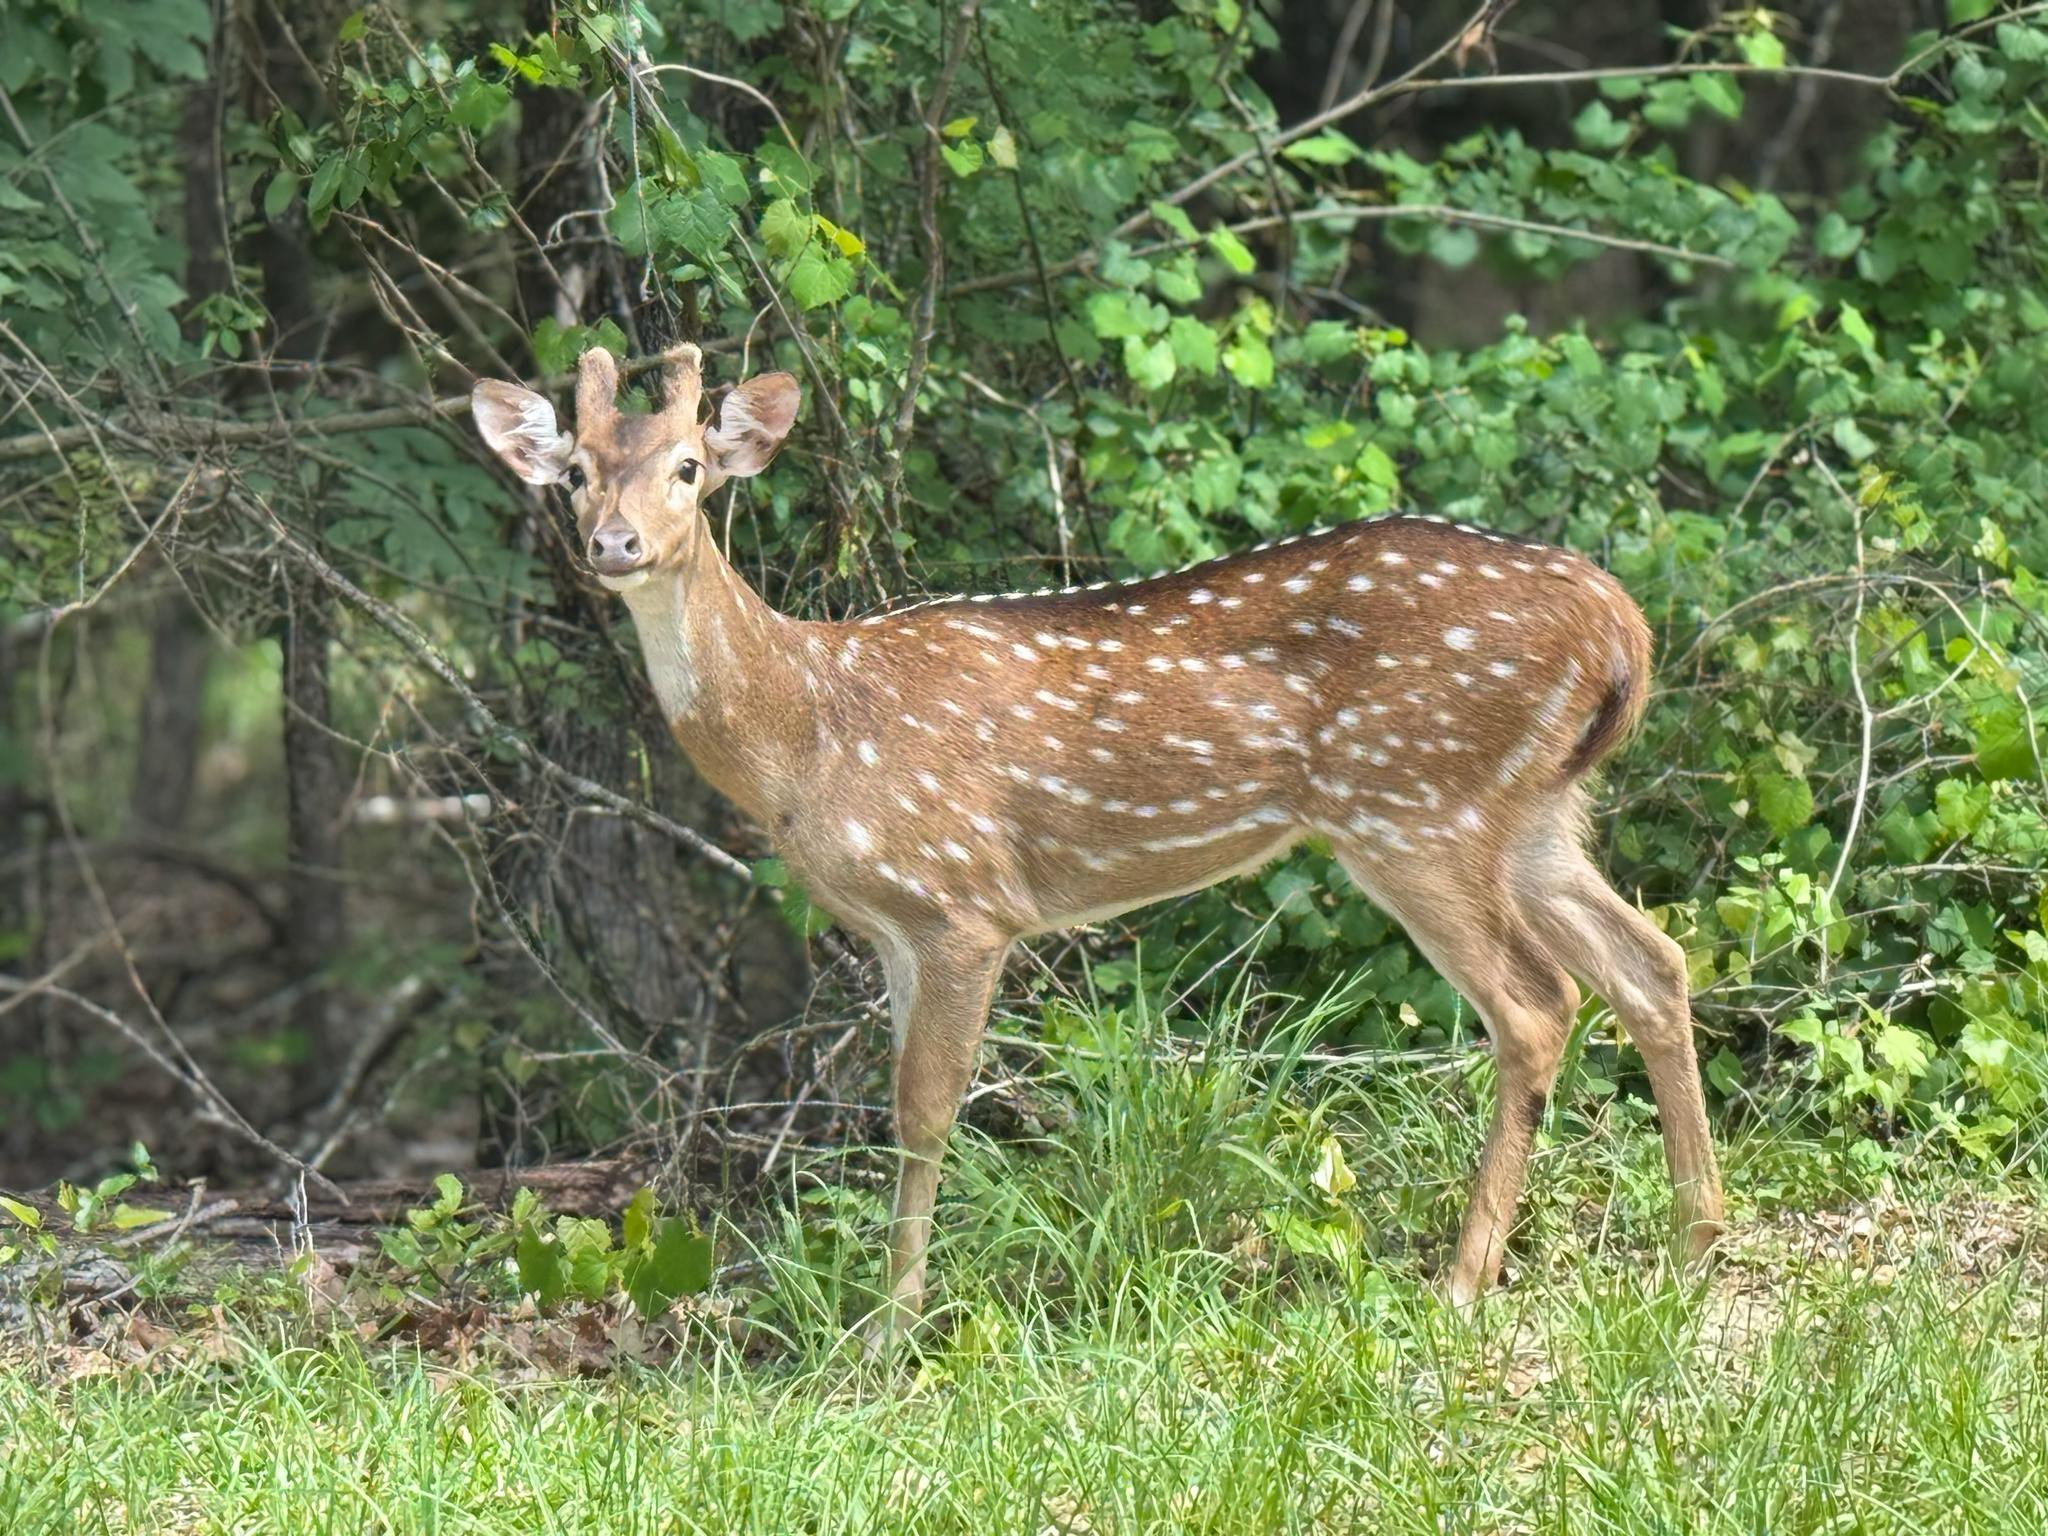Deer: (472, 345, 1722, 1341)
